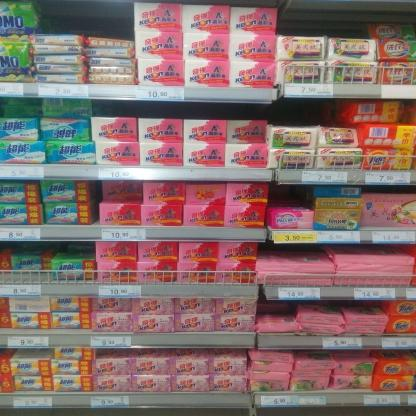Void: (95, 101, 271, 120), (44, 5, 131, 39), (281, 8, 369, 35), (276, 99, 346, 123), (269, 184, 314, 210), (22, 242, 95, 257), (260, 242, 322, 254), (261, 301, 287, 320)
